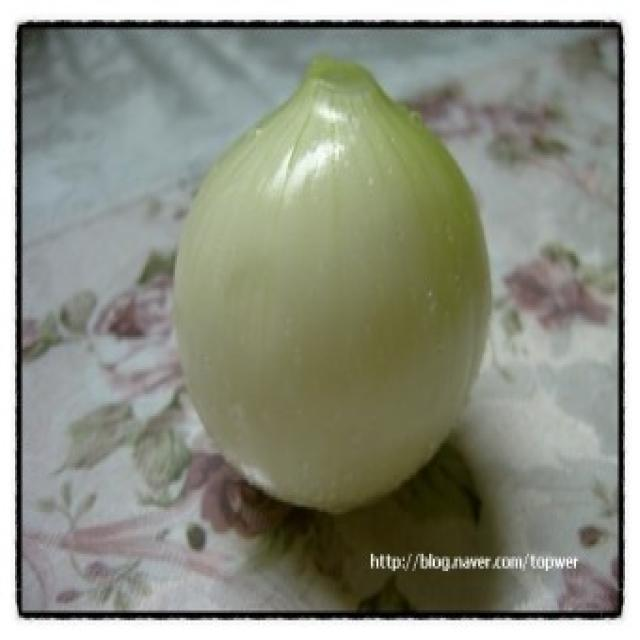onion: (154, 39, 509, 542)
